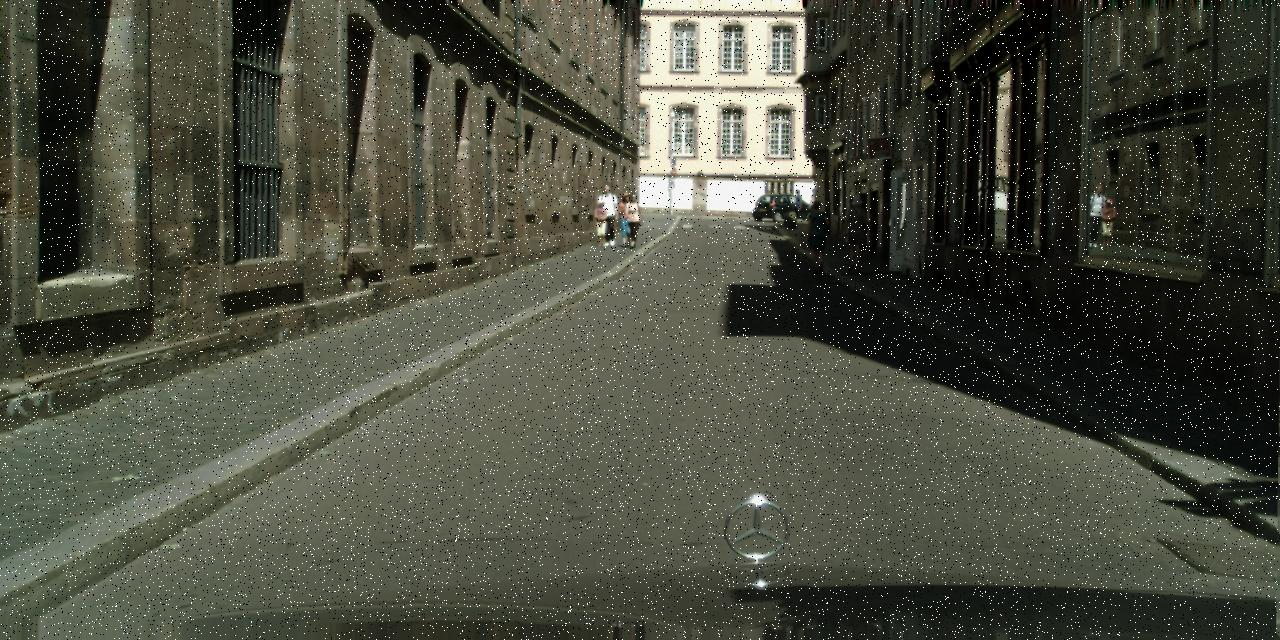ped: (839, 196, 870, 270), (802, 200, 832, 272), (594, 184, 620, 244), (615, 190, 637, 246), (623, 192, 645, 248), (592, 203, 609, 247), (791, 189, 804, 223)
